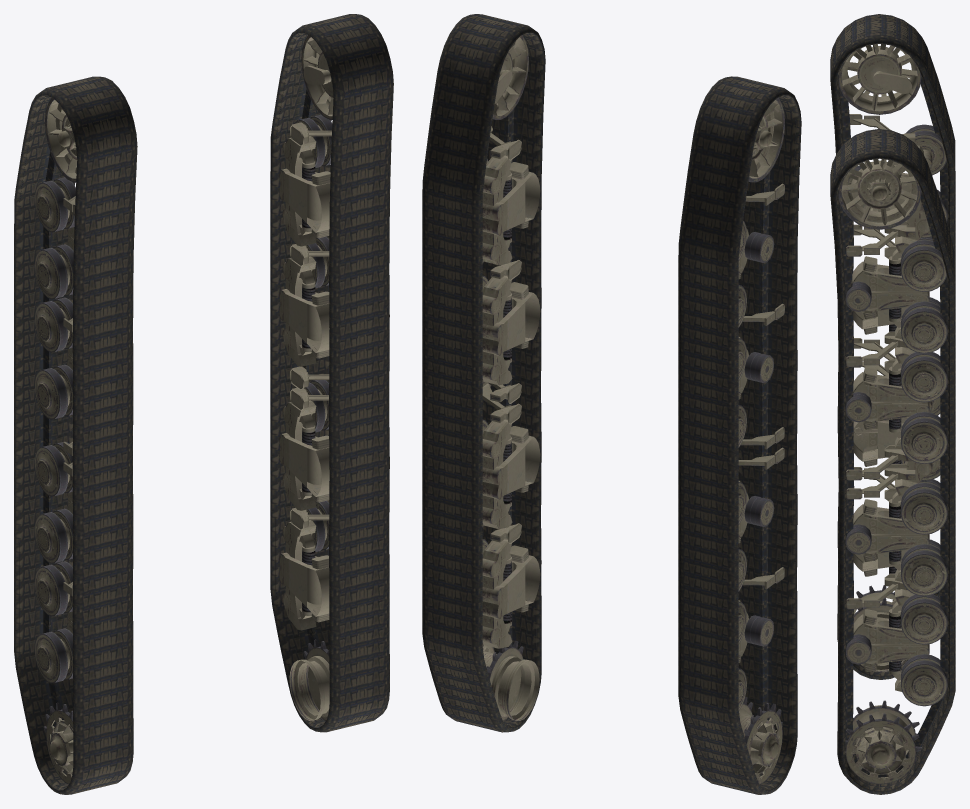
File: Chassis.glb
3 views of the same model, side by side, from view 1: azimuth 30°, elevation 25°; view 2: azimuth 150°, elevation 25°; view 3: azimuth 270°, elevation 25° (orthographic). The views are drawn at different scales.
Parts seen in each view (by area): view 1: set_0_group_0, set_1_group_0, set_3_group_0, set_2_group_0; view 2: set_0_group_0, set_1_group_0, set_3_group_0, set_2_group_0; view 3: set_3_group_0, set_1_group_0, set_2_group_0, set_0_group_0.
Part boxes in pixels (x1=…): set_0_group_0: x1=14, y1=76, x2=137, y2=794; set_1_group_0: x1=270, y1=14, x2=393, y2=732; set_3_group_0: x1=279, y1=35, x2=333, y2=720; set_2_group_0: x1=34, y1=97, x2=77, y2=784; set_0_group_0: x1=678, y1=76, x2=801, y2=794; set_1_group_0: x1=422, y1=14, x2=545, y2=732; set_3_group_0: x1=482, y1=35, x2=540, y2=720; set_2_group_0: x1=738, y1=97, x2=784, y2=784; set_3_group_0: x1=838, y1=159, x2=947, y2=784; set_1_group_0: x1=830, y1=129, x2=955, y2=794; set_2_group_0: x1=838, y1=44, x2=947, y2=671; set_0_group_0: x1=830, y1=14, x2=955, y2=679.
Bounding box in the file's own units: 3.58 × 7.6 × 1.34.
4 materials, 4 textured.
